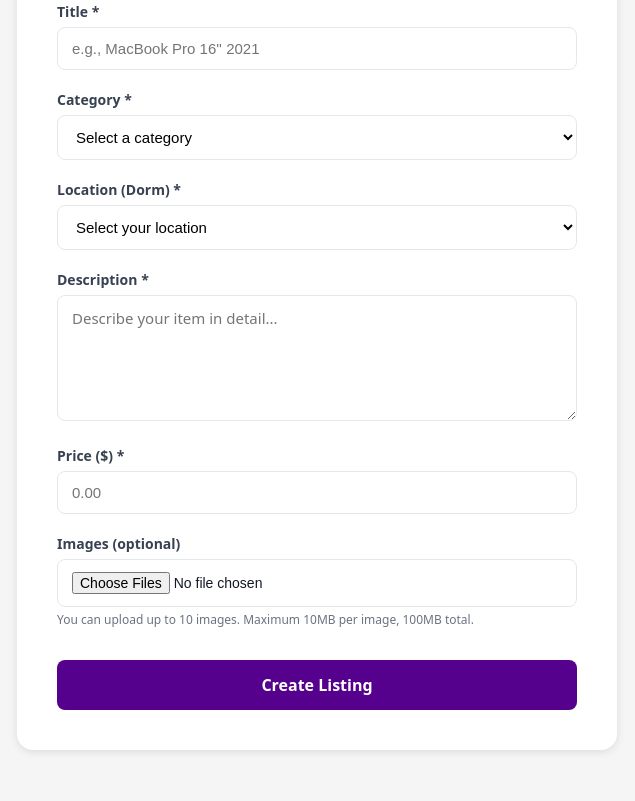
CreateListing › Form Validation › shows error when title is empty
(page scrolled)
Click the button "Create Listing": (317,685) [57,660,577,710]
(page scrolled)
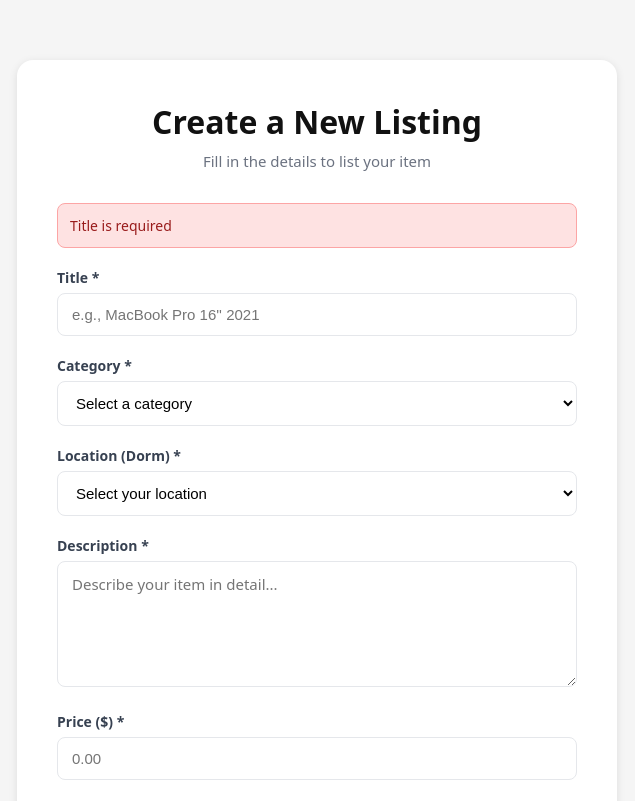
Now the text "Title is required" is shown, box [57,203,577,248]
